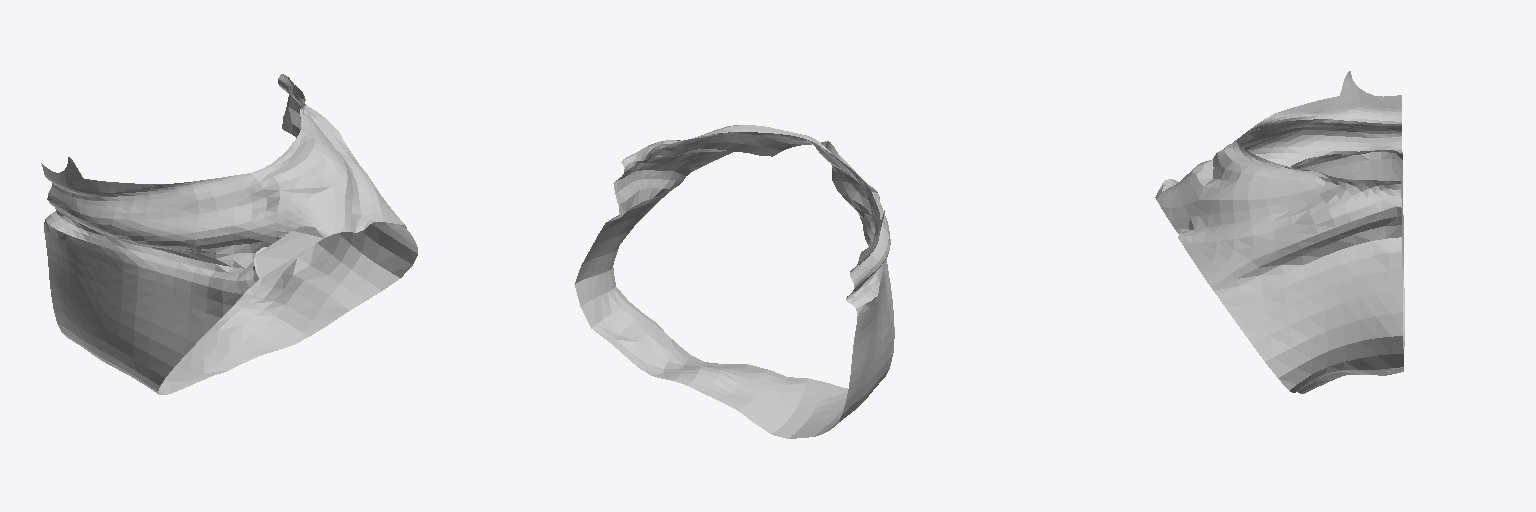
Rendered from hanche_droite.obj.
3 views of the same model, side by side, from view 1: azimuth 30°, elevation 25°; view 2: azimuth 150°, elevation 25°; view 3: azimuth 270°, elevation 25° (orthographic).
Parts seen in each view (by area): view 1: 15548_French_Horseman_v1.003_15548_French_Horseman_v1.004; view 2: 15548_French_Horseman_v1.003_15548_French_Horseman_v1.004; view 3: 15548_French_Horseman_v1.003_15548_French_Horseman_v1.004.
Boxes of the visible parts, x1,y1,x2,y2 form: 15548_French_Horseman_v1.003_15548_French_Horseman_v1.004: [41, 74, 417, 394]; 15548_French_Horseman_v1.003_15548_French_Horseman_v1.004: [574, 125, 894, 438]; 15548_French_Horseman_v1.003_15548_French_Horseman_v1.004: [1155, 71, 1404, 393].
Size of the model in its own units: 1.5 by 1.08 by 1.04.